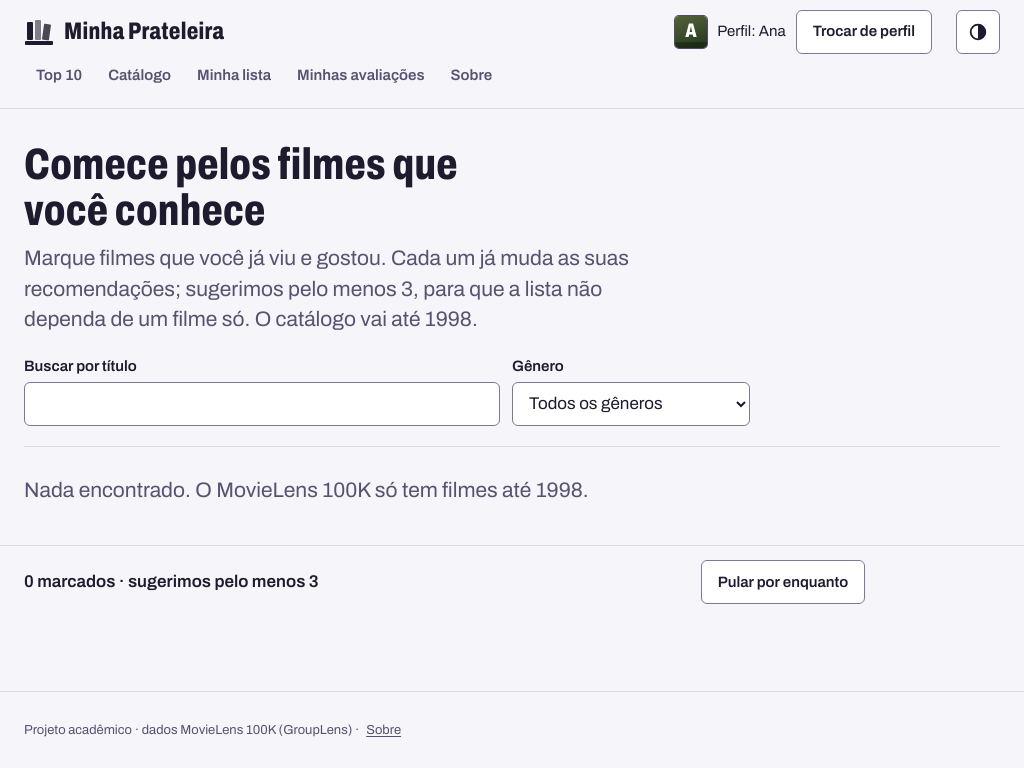
Test: "Top 10" e o logo concluem os primeiros filmes › sem nenhum filme marcado também conclui e mostra o Top 10 (populares)
Expected: the text "Perfil: Ana" is shown, [717,20,786,44]
Click the link "Top 10" at (59, 75), box [36,67,82,83]
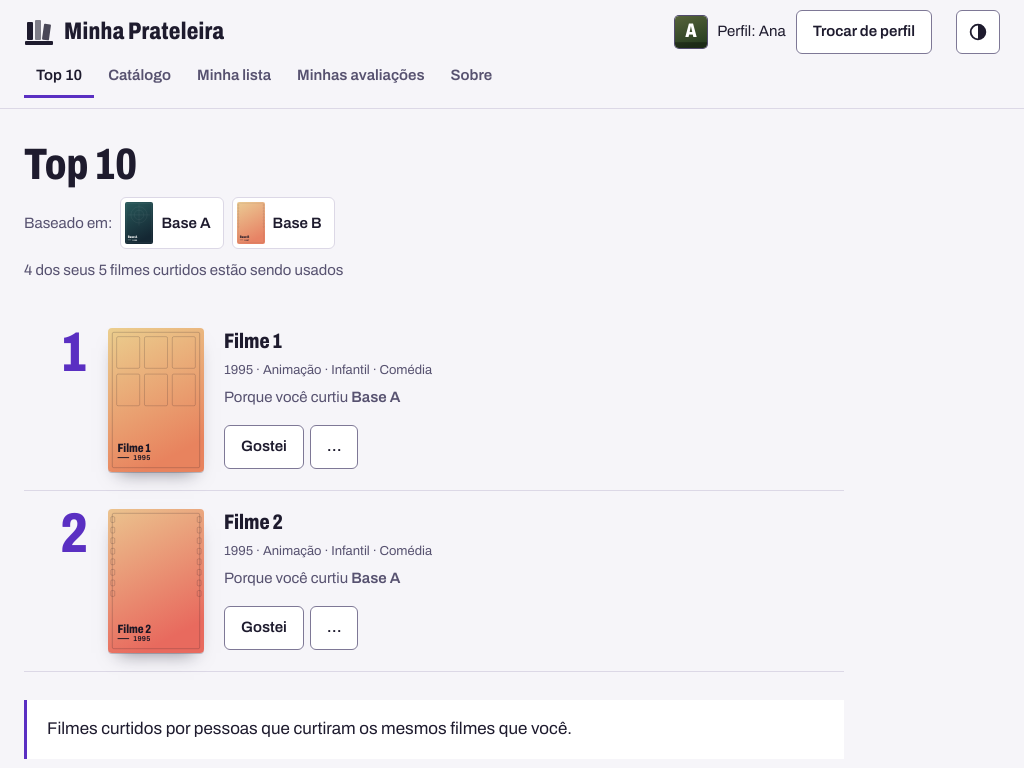
Expected: the heading "Top 10" is shown, [24,140,137,188]
